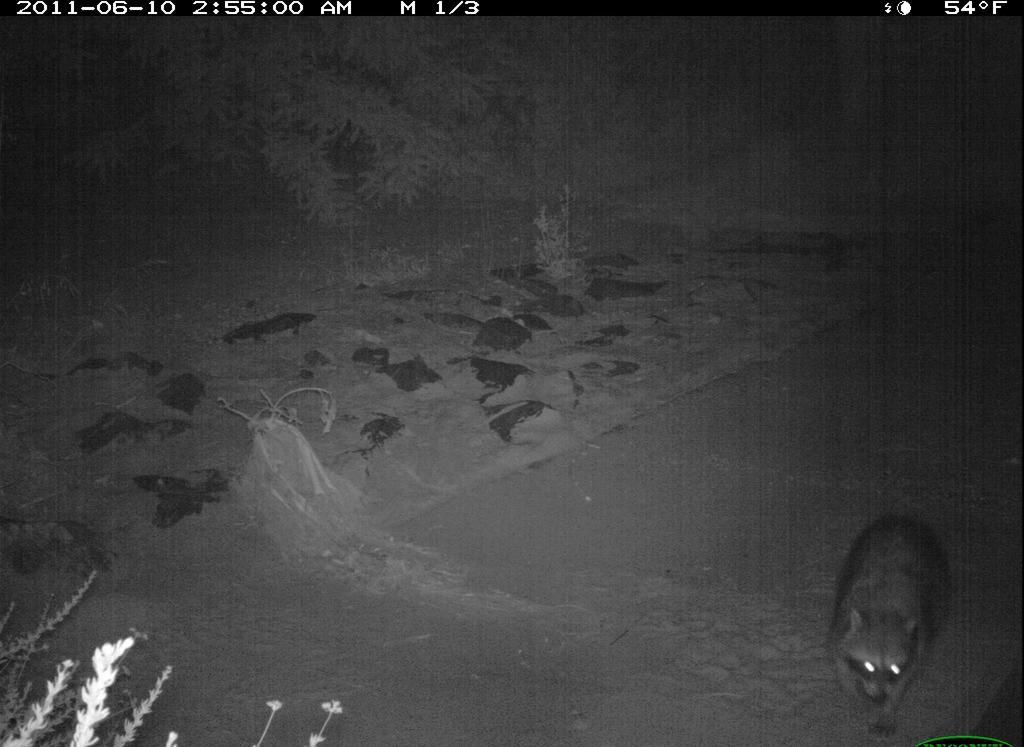raccoon: (814, 491, 955, 747)
